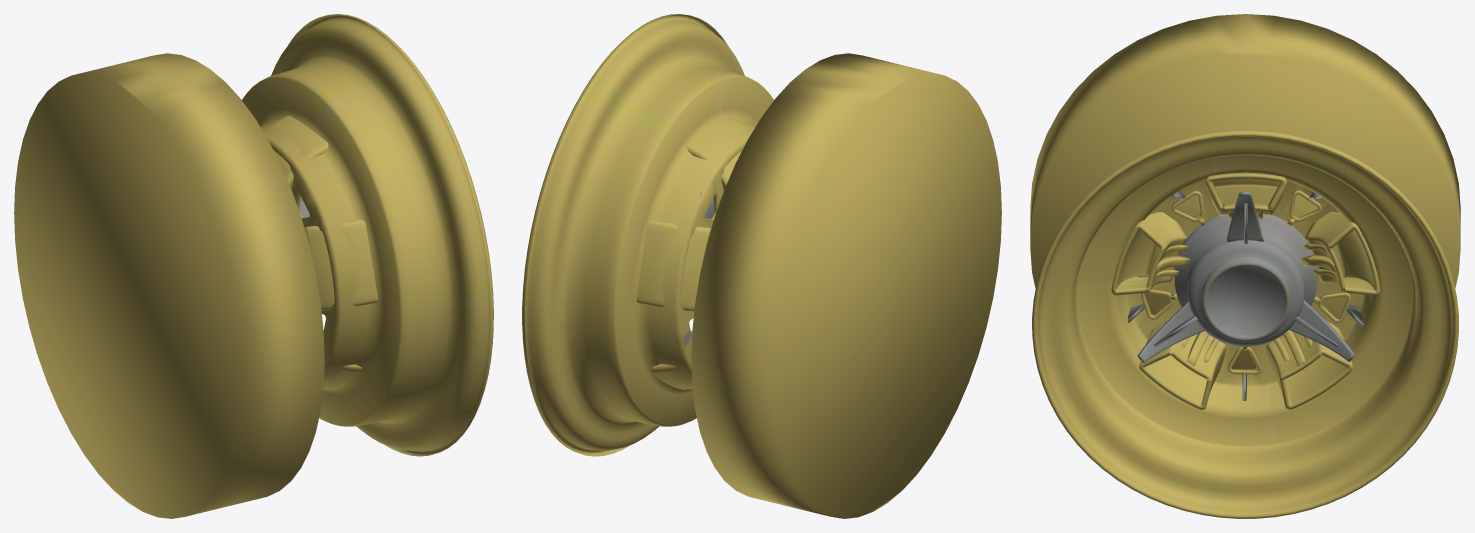
The picture shows the model from 3 angles, left to right: view 1: azimuth 30°, elevation 25°; view 2: azimuth 150°, elevation 25°; view 3: azimuth 270°, elevation 25°; orthographic projection. The views are drawn at different scales.
Visible parts, largest first — view 1: Flux; view 2: Flux; view 3: Flux.
Part boxes in pixels (box(x1,y1,x2,y2)): Flux: box(14, 14, 493, 518); Flux: box(522, 14, 1001, 518); Flux: box(1030, 14, 1460, 518).
Size of the model in its own units: 0.7768 by 1.21 by 1.21.
Materials: 1 (1 with a texture image).
